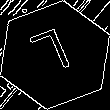L_S: (30, 26, 80, 84)
